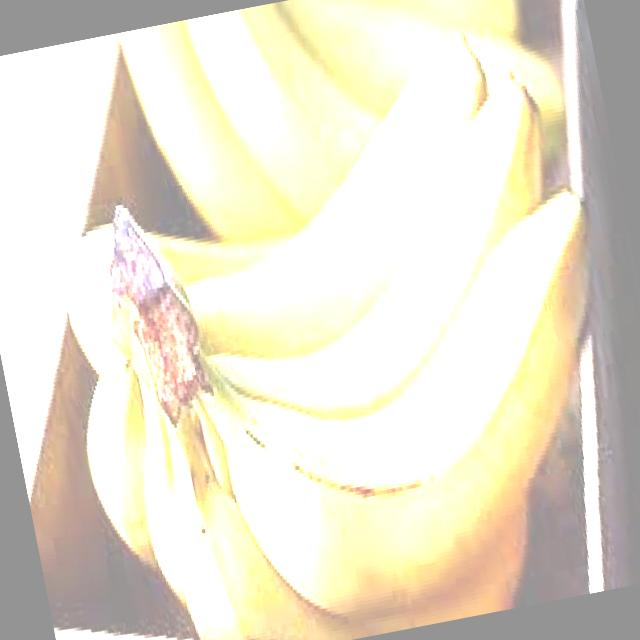Banana: (19, 11, 640, 640), (114, 0, 578, 258)
